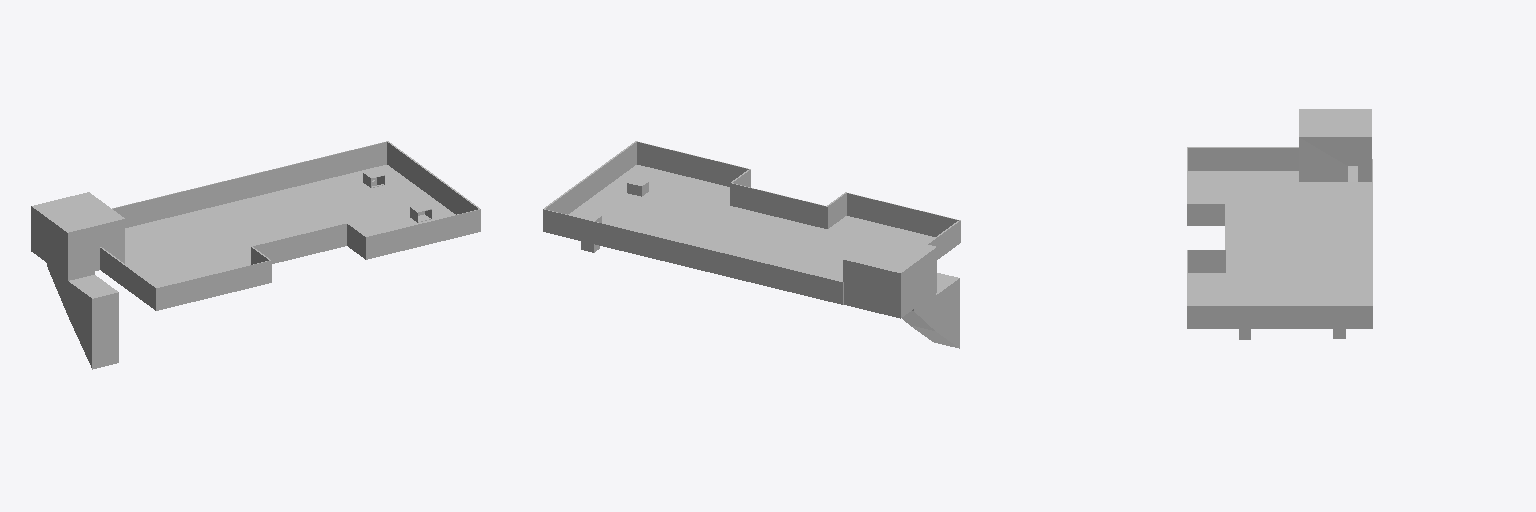
The model's file is Roof.obj.
3 renders of one model, left to right at view 1: azimuth 30°, elevation 25°; view 2: azimuth 150°, elevation 25°; view 3: azimuth 270°, elevation 25°, orthographic.
Parts seen in each view (by area): view 1: Plane, Plane.001; view 2: Plane, Plane.001; view 3: Plane, Plane.001.
Part boxes in pixels (x1,y1,x2,y2): Plane: (31,165,455,369); Plane.001: (100,141,480,310); Plane: (568,165,959,348); Plane.001: (543,141,960,304); Plane: (1188,109,1371,339); Plane.001: (1187,147,1372,328).
Size of the model in its own units: 23.02 by 7.36 by 10.37.